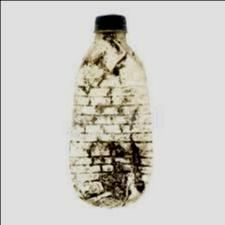bottle: (60, 0, 152, 193)
